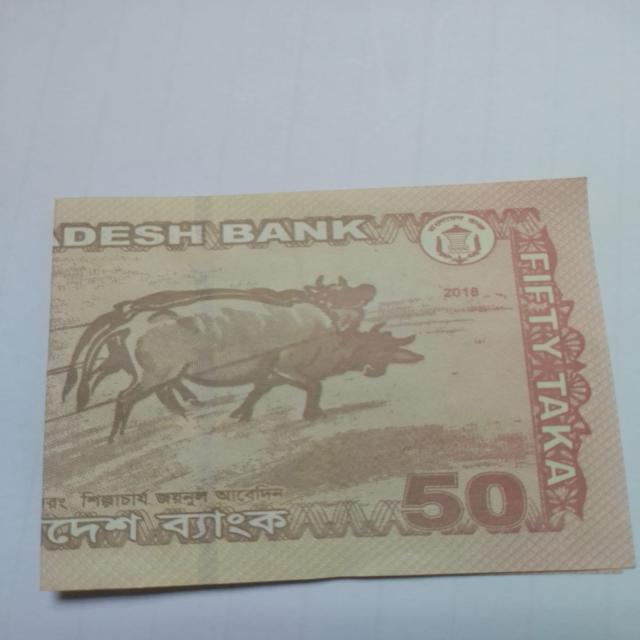Taka: (34, 174, 638, 593)
